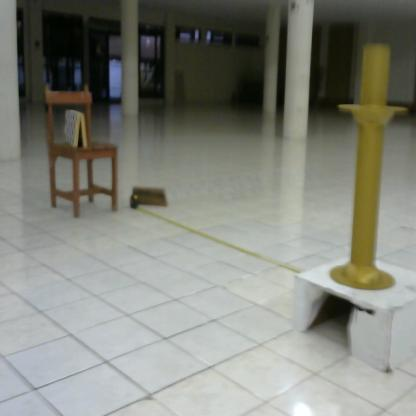pole: (317, 39, 413, 300)
